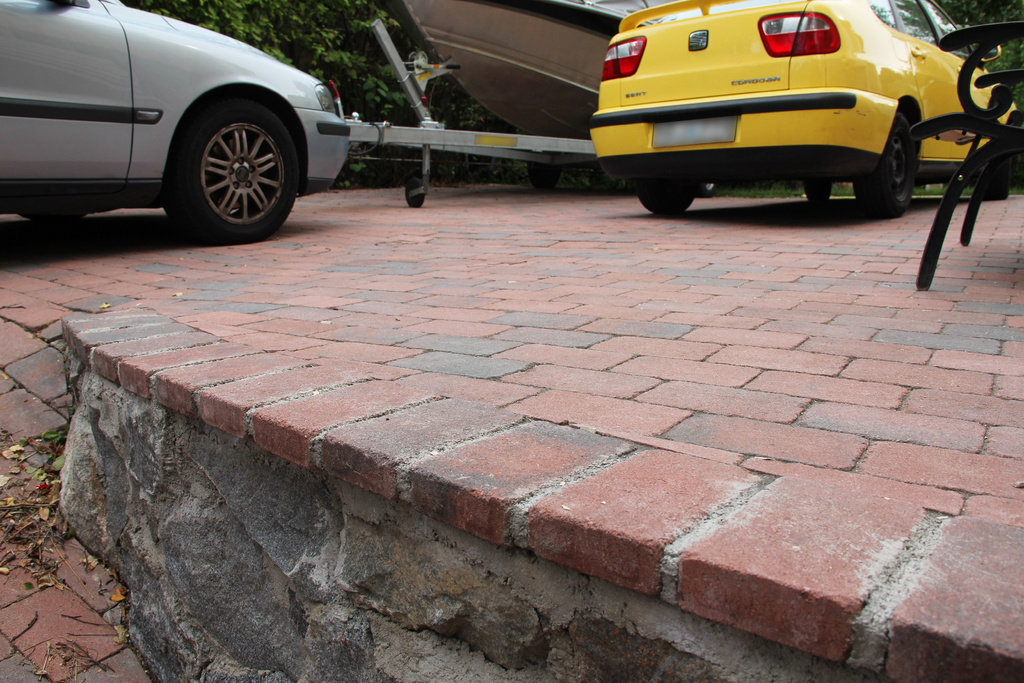Car: (0, 5, 389, 239), (586, 0, 1016, 210)
